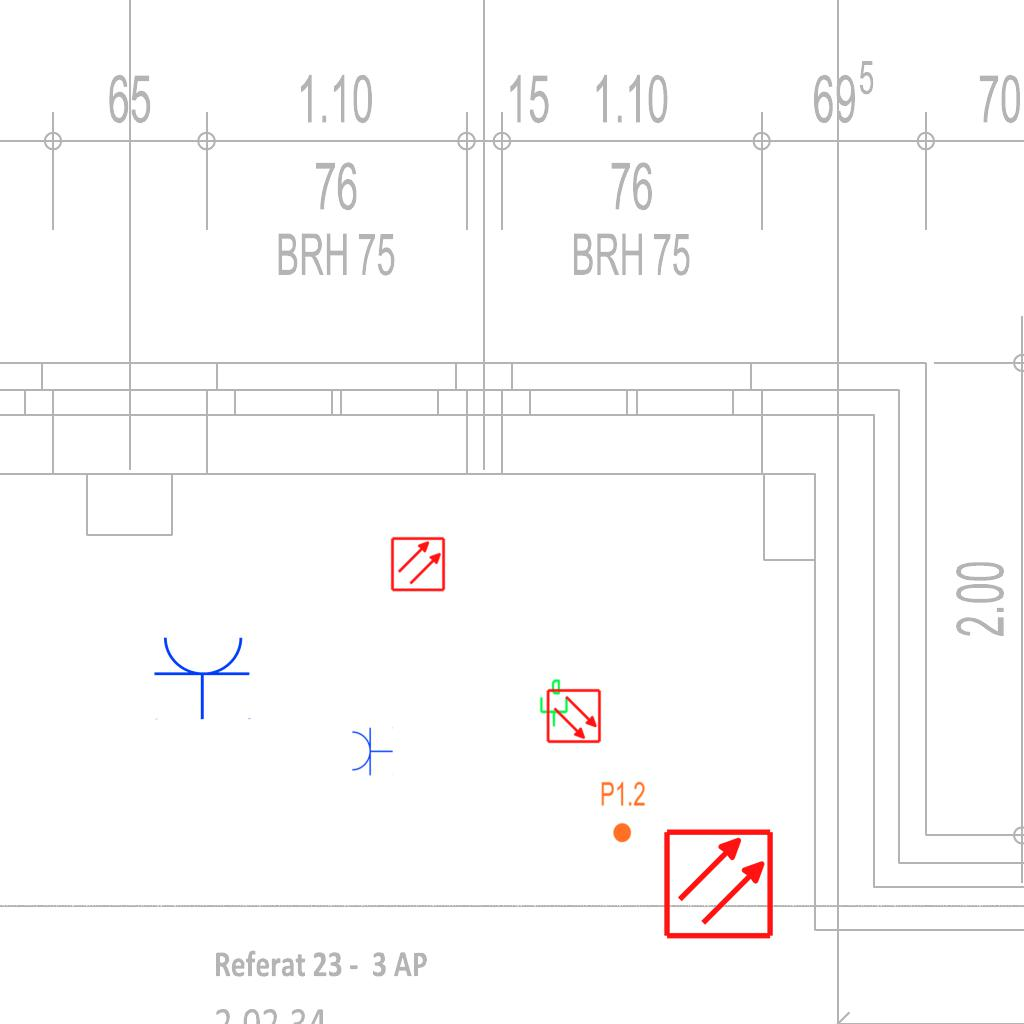Datenanschluss_einfach: (536, 678, 570, 728)
Downlight_LED_Einbauleuchten_Flur: (600, 780, 646, 844)
RMO_Rauchmelder_optischer: (662, 827, 775, 940), (390, 536, 446, 592), (546, 688, 602, 744)
Schukosteckdose_einfach: (153, 633, 253, 720), (350, 726, 393, 776)
